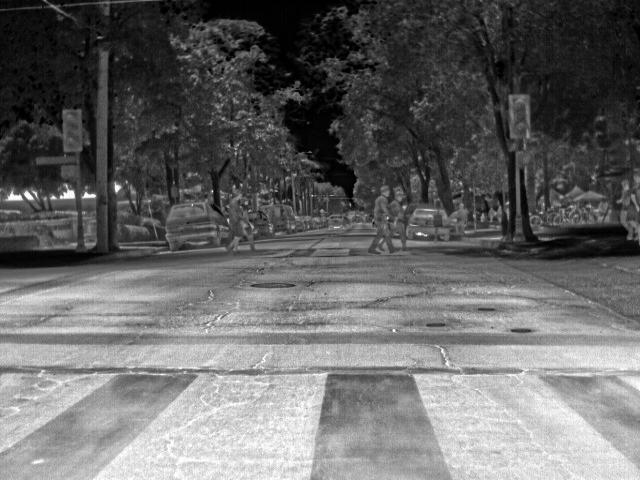car: (164, 193, 230, 252), (253, 199, 301, 239), (406, 206, 435, 242), (327, 212, 351, 229)
person: (366, 182, 396, 255), (225, 191, 258, 254), (388, 186, 412, 250), (614, 181, 640, 232), (450, 203, 469, 238)
